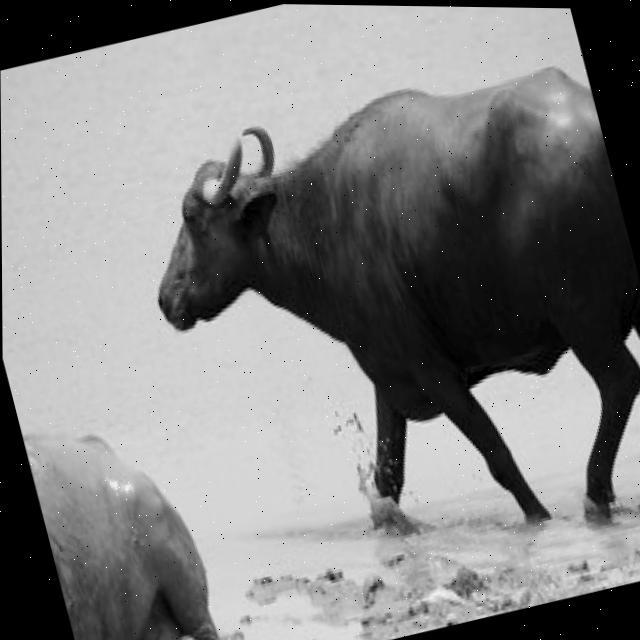Buffalo: (112, 40, 640, 635)
